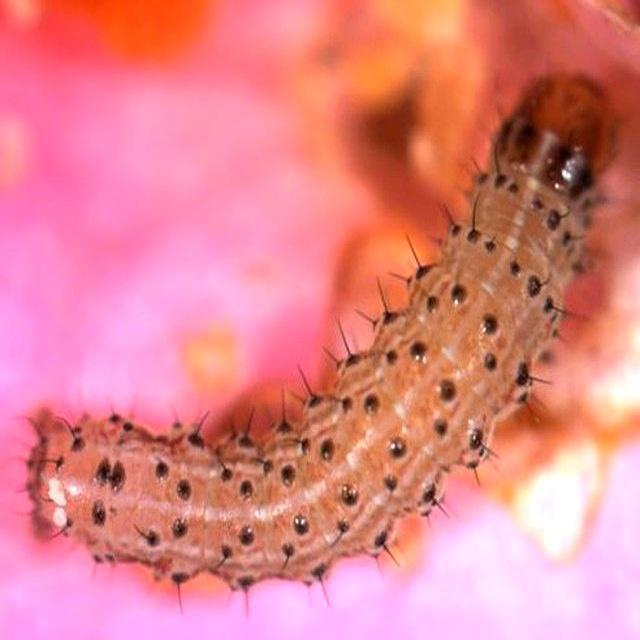gusano_cogollero: (25, 67, 626, 609)
